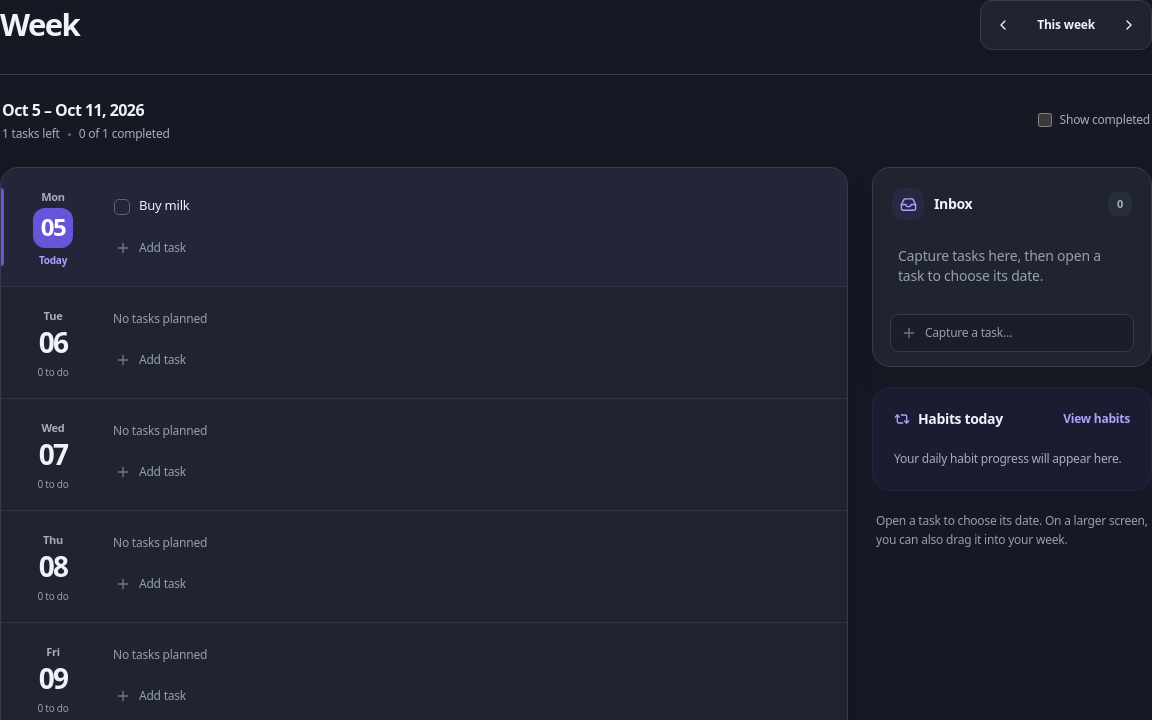
Scenario: WeekBoard touch taps › a tap with a small finger wiggle still opens the editor
Press the mouse on the button "Buy milk" at (164, 205), box [139, 197, 820, 215]
Click the button "Buy milk" at (164, 205), box [139, 197, 820, 215]
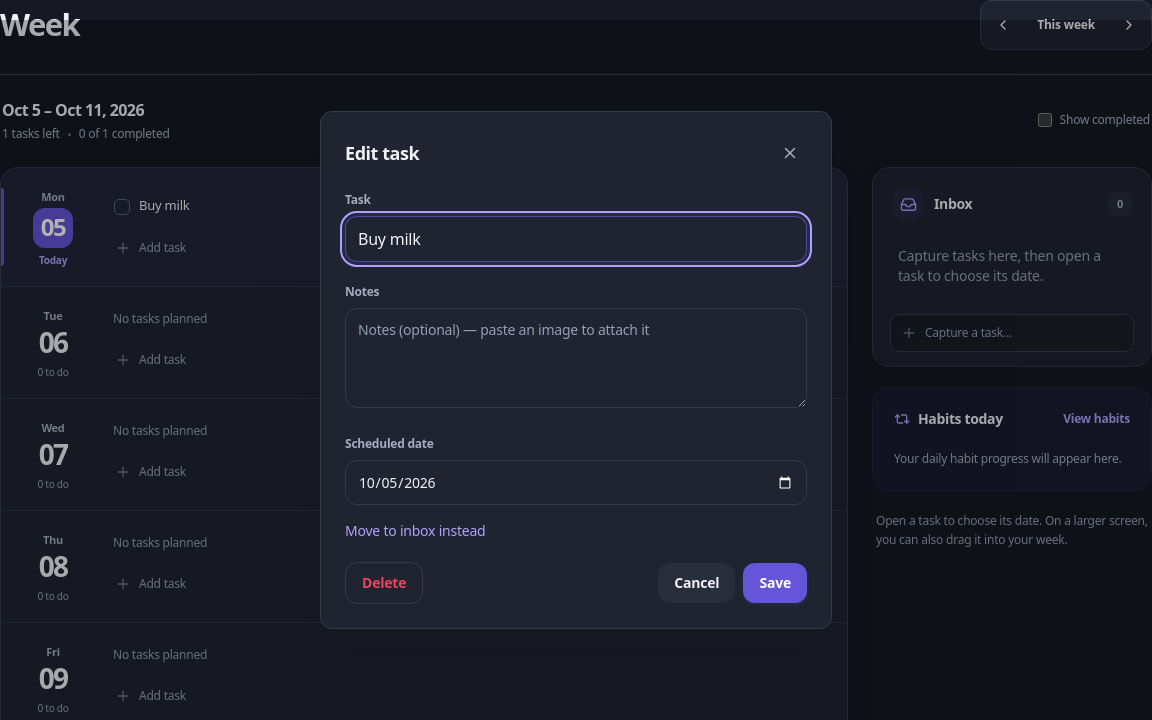
Now the field with placeholder "Task title" is shown, box [345, 216, 807, 262]
